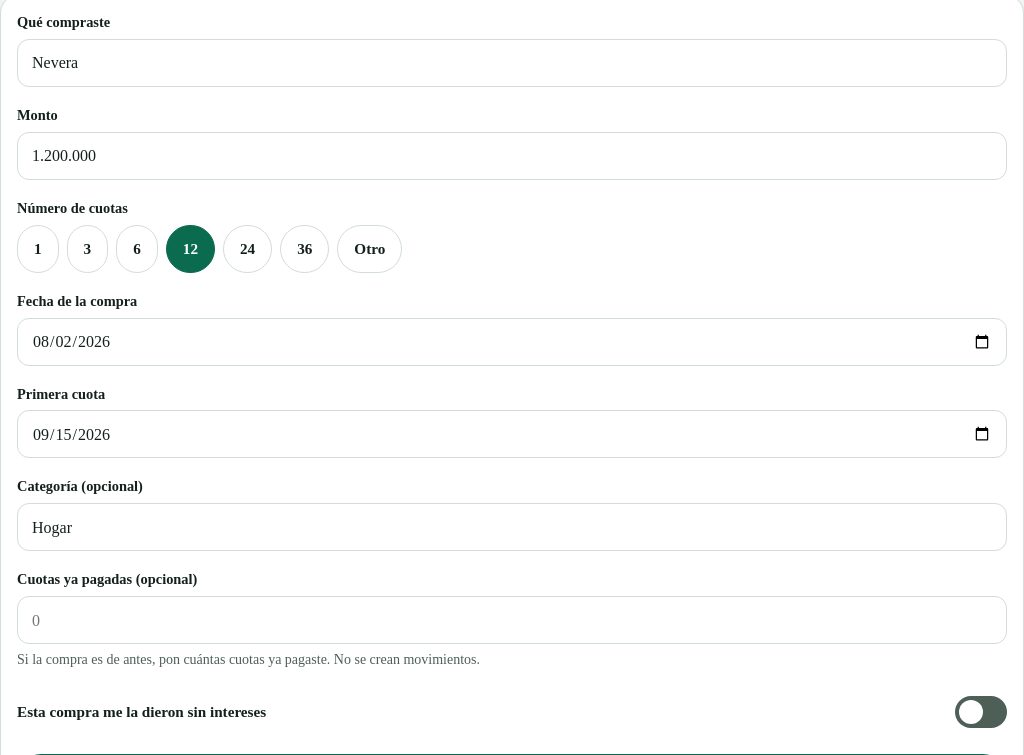
Test: I7: editar una compra › cambiar la fecha también confirma, avisando las cuotas de manejo que se pierden
In the date field labelled "Fecha de la compra": point(512, 342) [17,318,1007,366], type "2026-07-02"
(page scrolled)
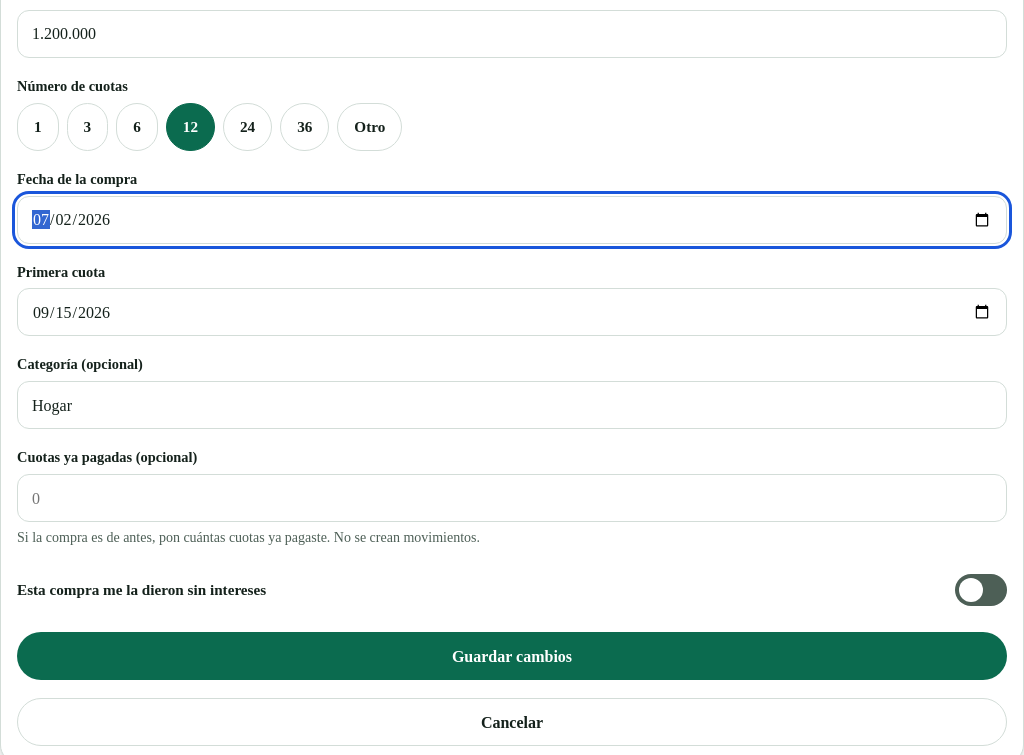
Click the button "Guardar cambios": point(512, 656) [17,632,1007,680]
(page scrolled)
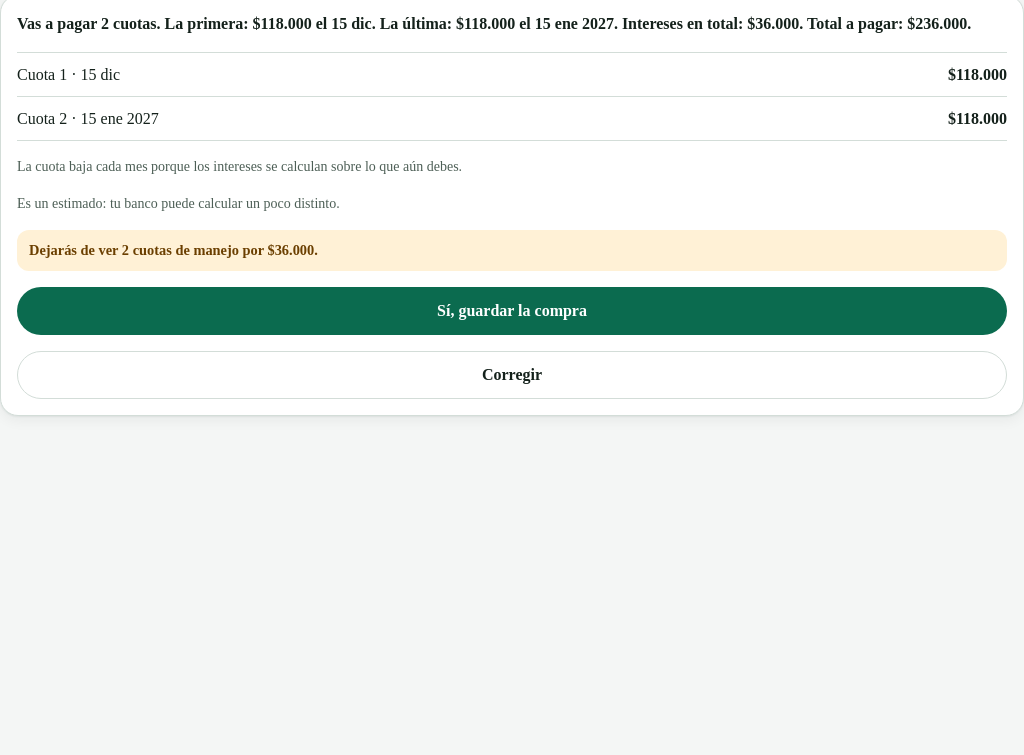
Expected: the text "Dejarás de ver 2 cuotas de manejo por $36.000." is shown, [17,230,1007,271]
